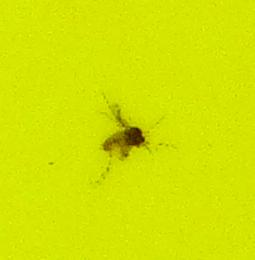Nematocera: (100, 100, 155, 160)
